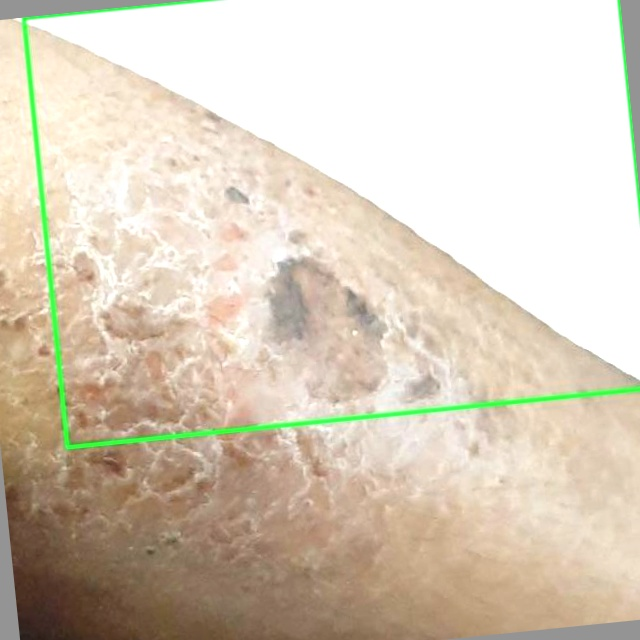Eczema: (24, 0, 639, 447)
